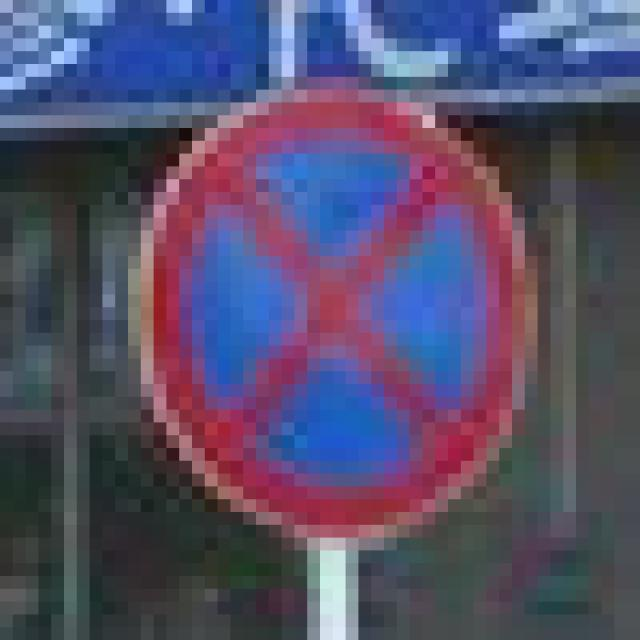no_parking: (115, 64, 525, 525)
